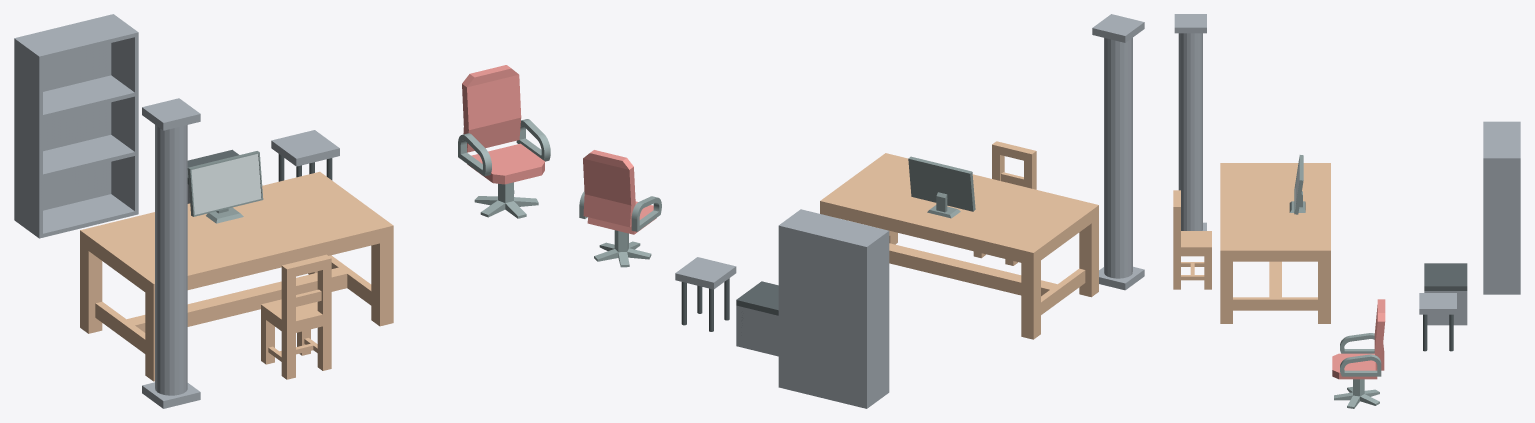
The picture shows the model from 3 angles, left to right: view 1: azimuth 30°, elevation 25°; view 2: azimuth 150°, elevation 25°; view 3: azimuth 270°, elevation 25°; orthographic projection. The views are drawn at different scales.
Parts seen in each view (by area): view 1: table_green__table(Clone), column_cyan__column_cyan shaft, deskchair_black__chair, shelf_orange__shelf_orange back, chair_cyan__chair(Clone), shelf_orange__shelf_orange side_l, monitor_gray__computerScreen(Clone), shelf_orange__shelf_orange side_r, shelf_orange__shelf_orange board3, shelf_orange__shelf_orange board1, shelf_orange__shelf_orange board0, shelf_orange__shelf_orange board2 (+4 smaller); view 2: table_green__table(Clone), shelf_orange__shelf_orange back, column_cyan__column_cyan shaft, deskchair_black__chair, shelf_orange__shelf_orange side_l, monitor_gray__computerScreen(Clone), crate_red__crate_red shell, shelf_orange__shelf_orange board3, chair_cyan__chair(Clone), stool_purple__stool_purple seat, column_cyan__column_cyan capital, deskchair_black__chairDesk(Clone) (+3 smaller); view 3: table_green__table(Clone), shelf_orange__shelf_orange side_r, column_cyan__column_cyan shaft, deskchair_black__chair, chair_cyan__chair(Clone), shelf_orange__shelf_orange board3, crate_red__crate_red lid, stool_purple__stool_purple seat, crate_red__crate_red shell, deskchair_black__chairDesk(Clone), column_cyan__column_cyan capital, monitor_gray__computerScreen(Clone).
Part boxes in pixels (x1=…): table_green__table(Clone): x1=80, y1=171, x2=393, y2=381; column_cyan__column_cyan shaft: x1=155, y1=125, x2=187, y2=395; deskchair_black__chair: x1=458, y1=65, x2=550, y2=184; shelf_orange__shelf_orange back: x1=18, y1=15, x2=111, y2=210; chair_cyan__chair(Clone): x1=261, y1=254, x2=331, y2=379; shelf_orange__shelf_orange side_l: x1=14, y1=37, x2=42, y2=238; monitor_gray__computerScreen(Clone): x1=187, y1=151, x2=263, y2=223; shelf_orange__shelf_orange side_r: x1=110, y1=14, x2=138, y2=214; shelf_orange__shelf_orange board3: x1=19, y1=16, x2=134, y2=59; shelf_orange__shelf_orange board1: x1=43, y1=135, x2=134, y2=178; shelf_orange__shelf_orange board0: x1=43, y1=194, x2=134, y2=237; shelf_orange__shelf_orange board2: x1=43, y1=75, x2=134, y2=118; table_green__table(Clone): x1=820, y1=153, x2=1098, y2=339; shelf_orange__shelf_orange back: x1=782, y1=225, x2=864, y2=407; column_cyan__column_cyan shaft: x1=1104, y1=38, x2=1132, y2=278; deskchair_black__chair: x1=579, y1=150, x2=661, y2=234; shelf_orange__shelf_orange side_l: x1=863, y1=230, x2=889, y2=408; monitor_gray__computerScreen(Clone): x1=908, y1=156, x2=975, y2=218; crate_red__crate_red shell: x1=736, y1=305, x2=778, y2=356; shelf_orange__shelf_orange board3: x1=783, y1=210, x2=885, y2=245; chair_cyan__chair(Clone): x1=973, y1=141, x2=1036, y2=265; stool_purple__stool_purple seat: x1=675, y1=257, x2=736, y2=289; column_cyan__column_cyan capital: x1=1092, y1=14, x2=1144, y2=42; deskchair_black__chairDesk(Clone): x1=594, y1=230, x2=651, y2=267; table_green__table(Clone): x1=1220, y1=163, x2=1330, y2=323; shelf_orange__shelf_orange side_r: x1=1483, y1=157, x2=1520, y2=294; column_cyan__column_cyan shaft: x1=1178, y1=33, x2=1202, y2=230; deskchair_black__chair: x1=1332, y1=299, x2=1385, y2=379; chair_cyan__chair(Clone): x1=1173, y1=190, x2=1211, y2=289; shelf_orange__shelf_orange board3: x1=1483, y1=123, x2=1518, y2=156; crate_red__crate_red lid: x1=1424, y1=263, x2=1467, y2=290; stool_purple__stool_purple seat: x1=1419, y1=293, x2=1456, y2=314; crate_red__crate_red shell: x1=1424, y1=291, x2=1467, y2=325; deskchair_black__chairDesk(Clone): x1=1334, y1=379, x2=1379, y2=408; column_cyan__column_cyan capital: x1=1174, y1=14, x2=1206, y2=33; monitor_gray__computerScreen(Clone): x1=1289, y1=155, x2=1305, y2=214.
Bounding box in the file's own units: 4 × 2.2 × 3.23.
